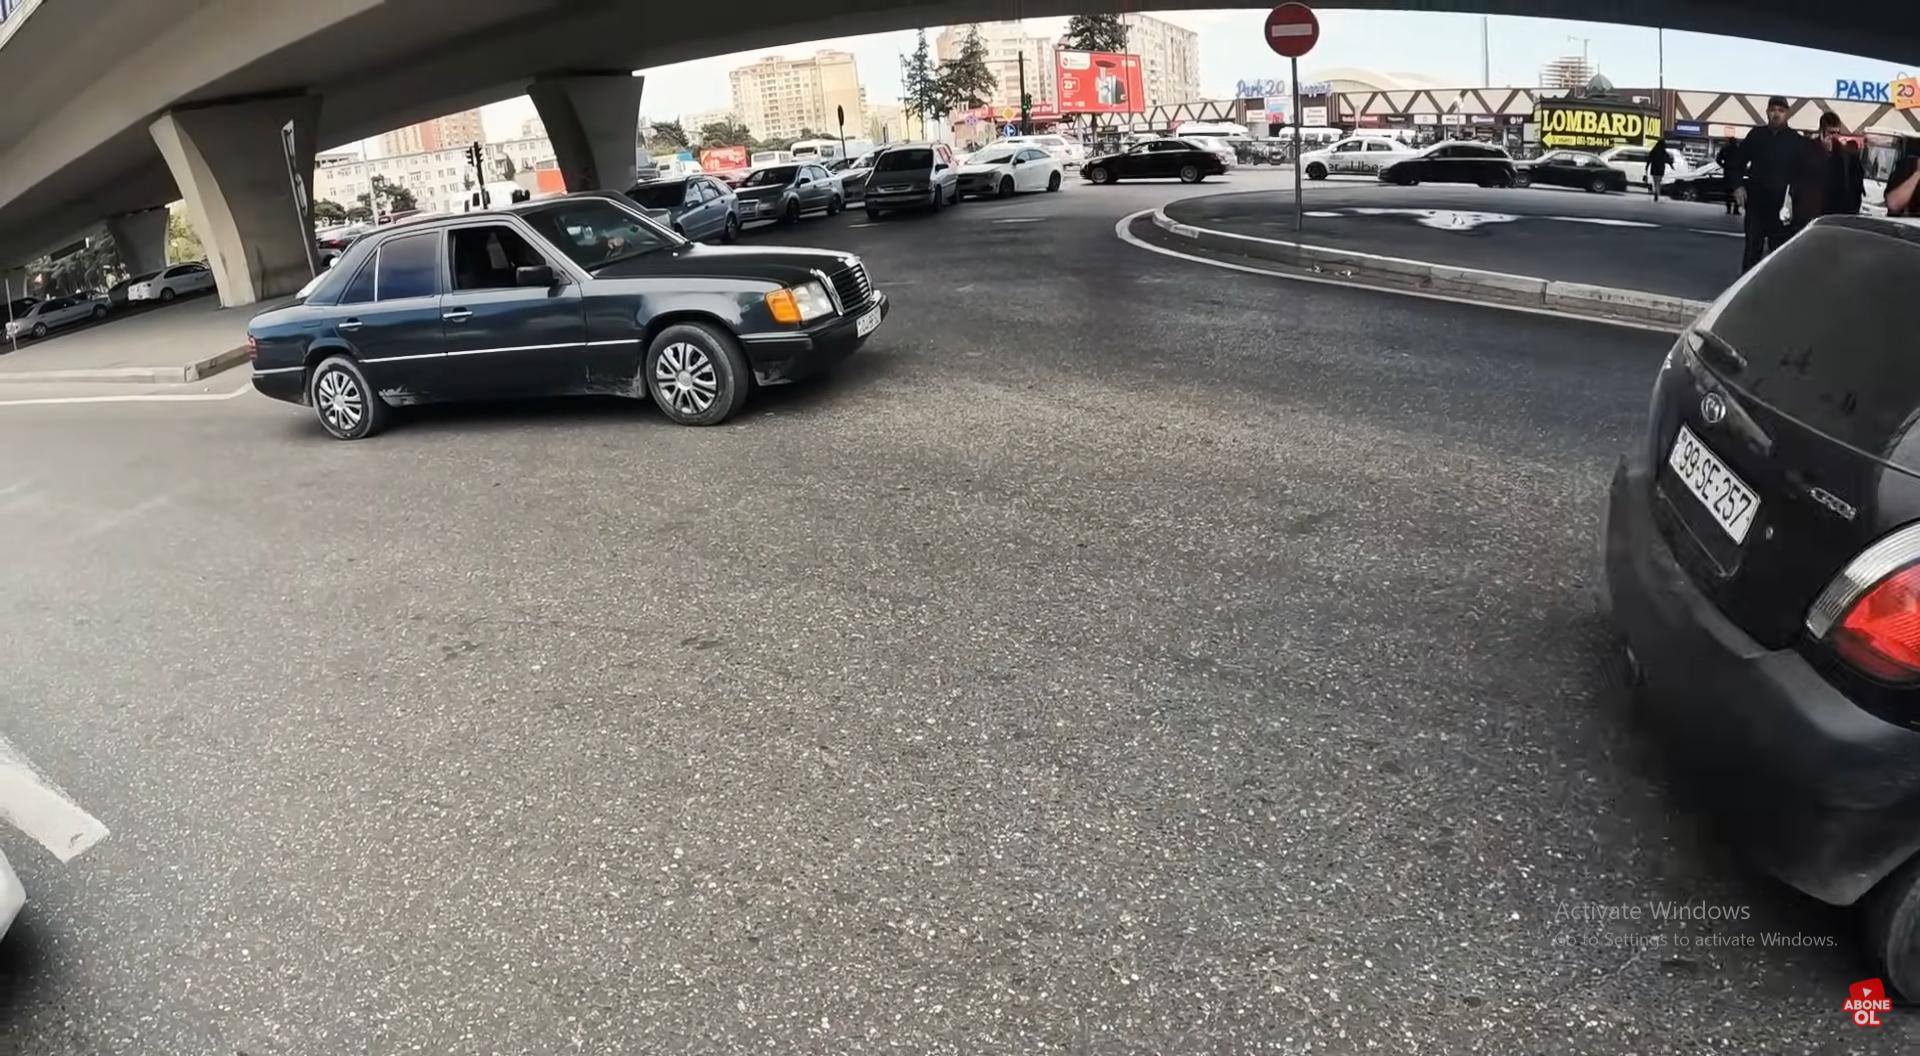banner: (1051, 50, 1148, 114)
